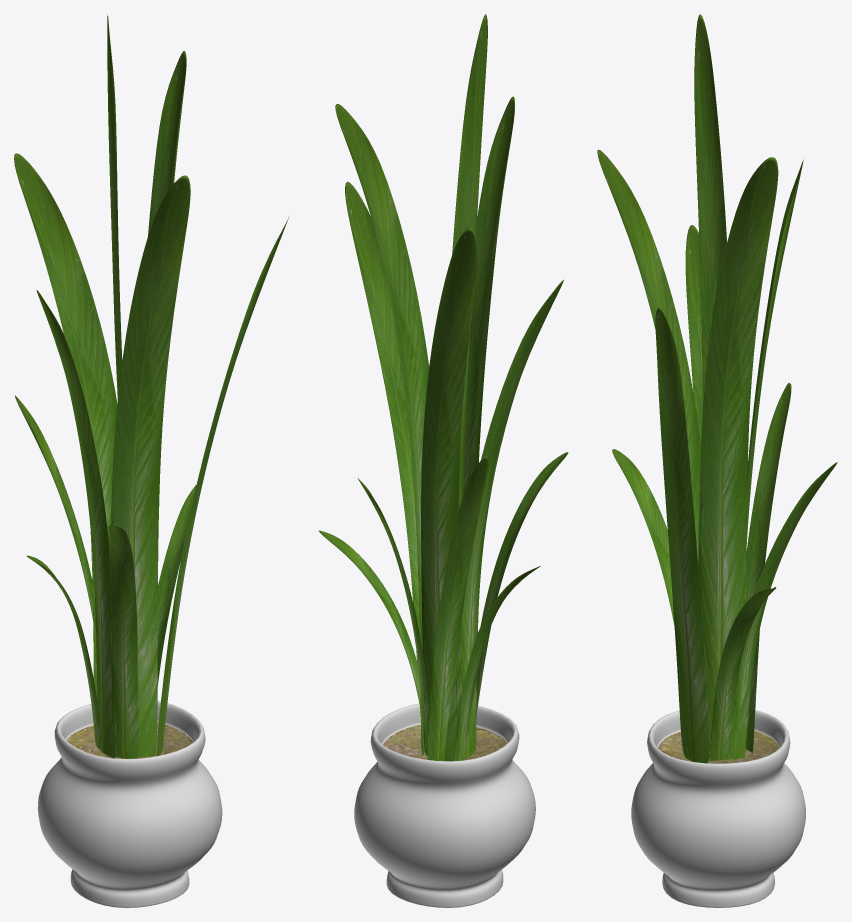
Rendered from plant_pot_obj.obj.
3 renders of one model, left to right at view 1: azimuth 30°, elevation 25°; view 2: azimuth 150°, elevation 25°; view 3: azimuth 270°, elevation 25°, orthographic. The views are drawn at different scales.
Parts seen in each view (by area): view 1: Plant_leafs_Plane.030, Plant_jar_Cube.001; view 2: Plant_leafs_Plane.030, Plant_jar_Cube.001; view 3: Plant_leafs_Plane.030, Plant_jar_Cube.001.
Part boxes in pixels (x1,y1,x2,y2): Plant_leafs_Plane.030: (14, 14, 289, 758); Plant_jar_Cube.001: (37, 700, 222, 907); Plant_leafs_Plane.030: (318, 14, 568, 761); Plant_jar_Cube.001: (354, 703, 535, 907); Plant_leafs_Plane.030: (597, 14, 837, 763); Plant_jar_Cube.001: (631, 710, 805, 907).
Bounding box in the file's own units: 0.4606 × 1.64 × 0.4182.
Materials: 3 (2 with a texture image).
